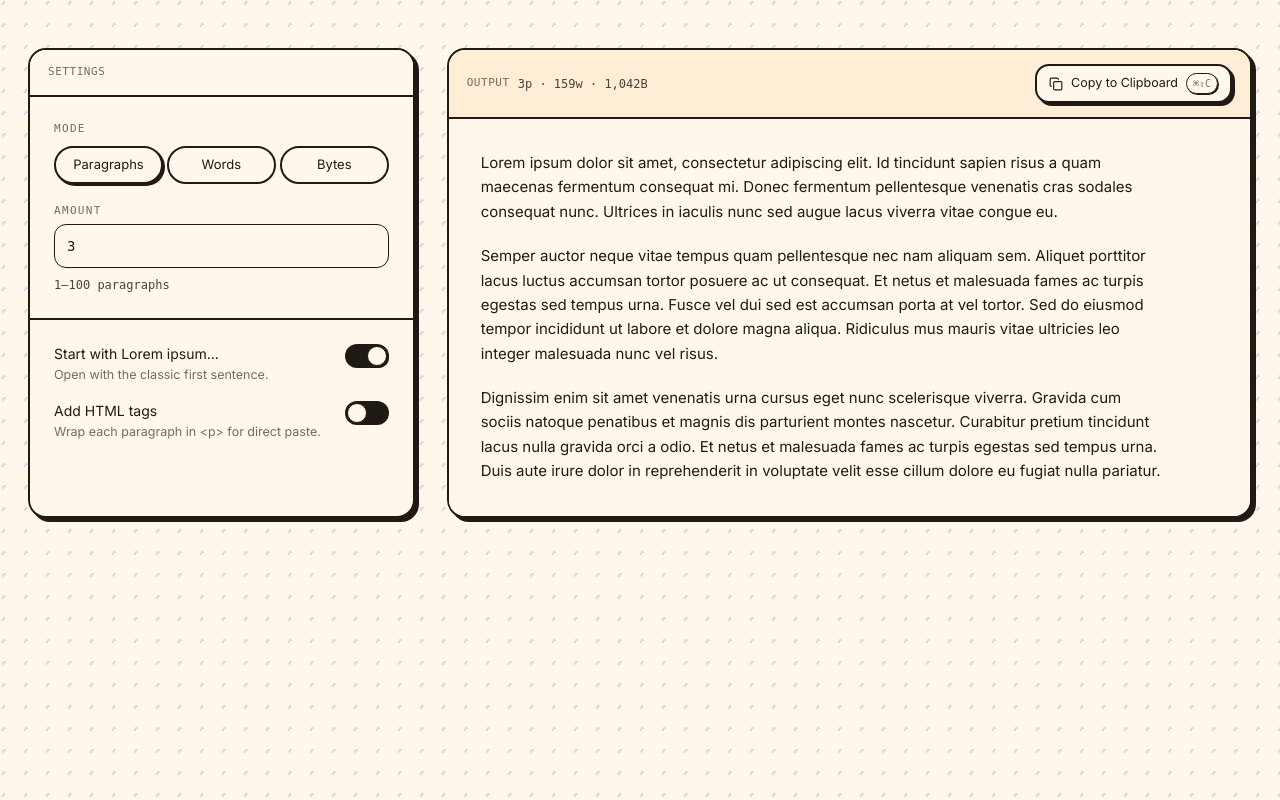
Test case: LoremIpsumRoute › shows 'Copied!' feedback after copy
This screenshot has width=1280, height=800.
What coordinates should you click on to do the following:
click the button "Copy to Clipboard"
I would click on:
 (1134, 84)
Its box is [1035,64,1232,103].
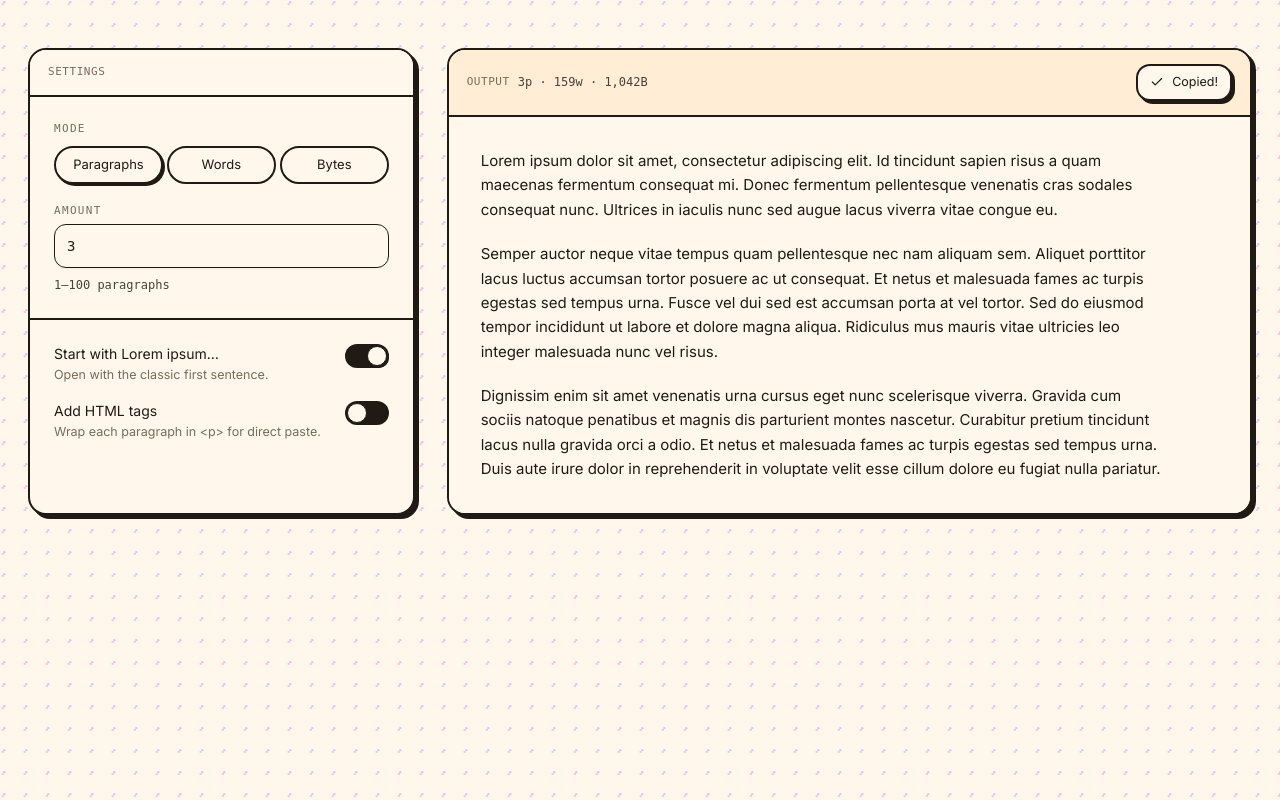
Now the text "Copied!" is shown, box [1150,73,1218,92]
